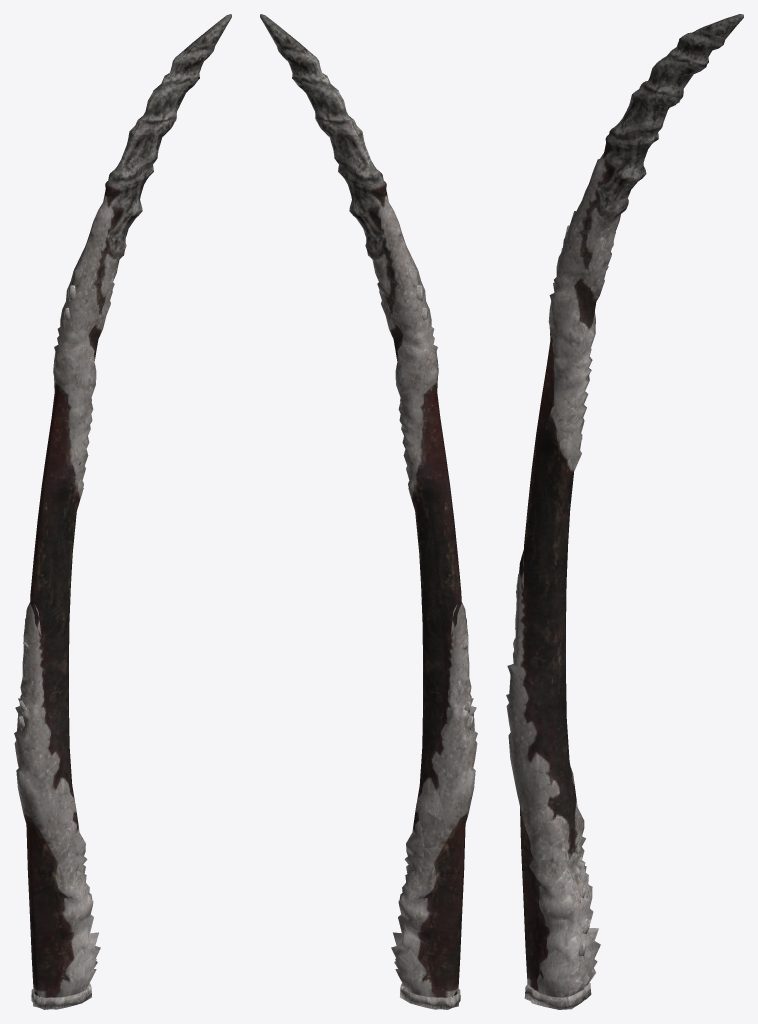
Rendered from wa_pd_dragonscalebladesheath.glb.
3 renders of one model, left to right at view 1: azimuth 30°, elevation 25°; view 2: azimuth 150°, elevation 25°; view 3: azimuth 330°, elevation 25°, orthographic. The views are drawn at different scales.
Parts seen in each view (by area): view 1: DragonscaleBladeSheath; view 2: DragonscaleBladeSheath; view 3: DragonscaleBladeSheath.
Part boxes in pixels (x1,y1,x2,y2): DragonscaleBladeSheath: [14, 14, 231, 1009]; DragonscaleBladeSheath: [260, 14, 477, 1009]; DragonscaleBladeSheath: [506, 14, 743, 1009].
Size of the model in its own units: 20.99 by 88.93 by 4.43.
Materials: 1 (1 with a texture image).
